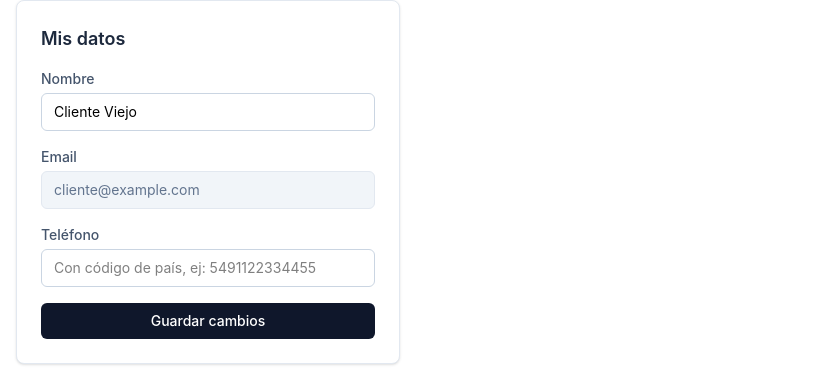
Profile › permite completar el teléfono faltante y guardar
Expected: the field showing "Cliente Viejo" is shown, [41,93,375,131]
In the field labelled "Teléfono": (208,268) [41,249,375,287], type "5491122334455"
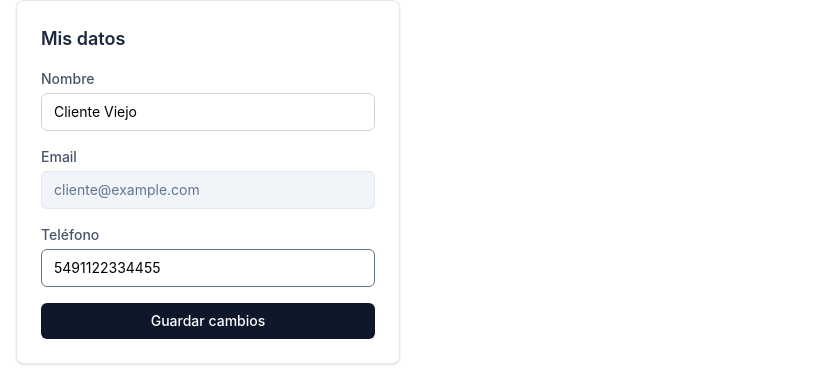
Click the button "Guardar cambios": (208,321) [41,303,375,339]
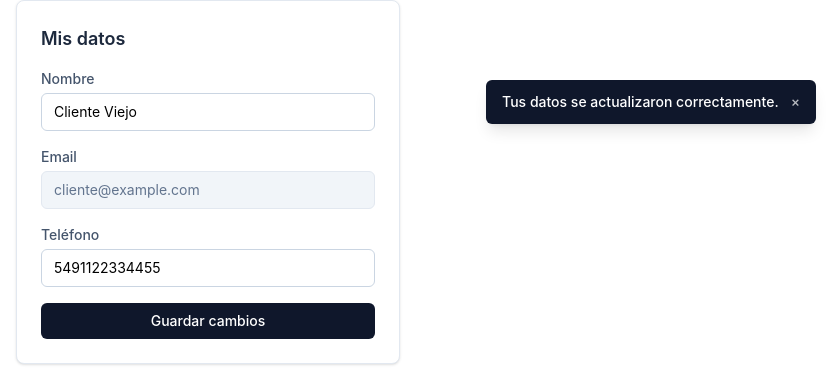
Now the text "Tus datos se actualizaron correctamente." is shown, box [502,92,779,112]
